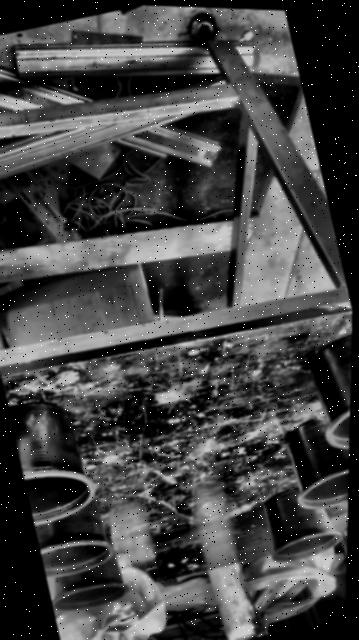pot: (4, 391, 99, 528), (258, 483, 344, 566), (301, 330, 352, 453), (34, 499, 113, 577), (286, 419, 349, 509), (51, 555, 127, 611), (59, 156, 102, 194)
